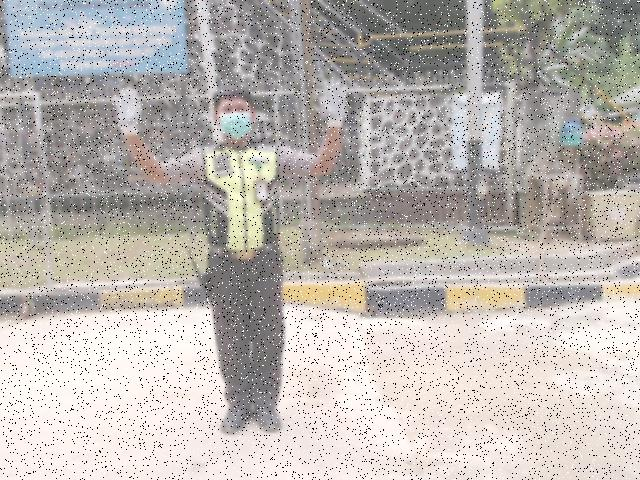gloves: (109, 85, 145, 136), (318, 78, 350, 128)
mask: (220, 113, 251, 138)
safety-shoes: (219, 407, 254, 438), (253, 408, 287, 434)
